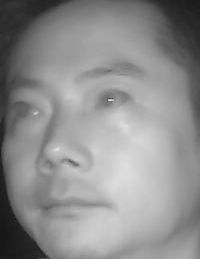eye: (91, 86, 134, 115), (6, 96, 48, 122)
mouth: (36, 182, 116, 227)
